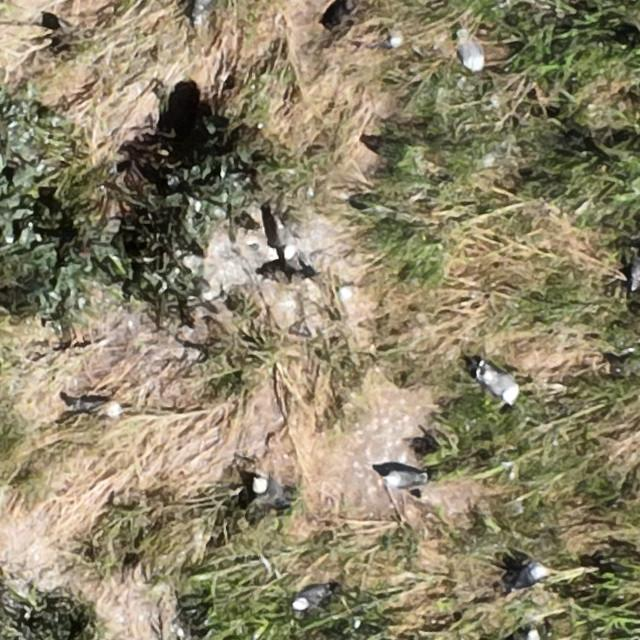umineko: (484, 368, 518, 401), (274, 223, 298, 261), (82, 399, 121, 421), (512, 564, 544, 589), (461, 40, 485, 72), (294, 586, 326, 607), (256, 479, 284, 499), (387, 471, 421, 487)
